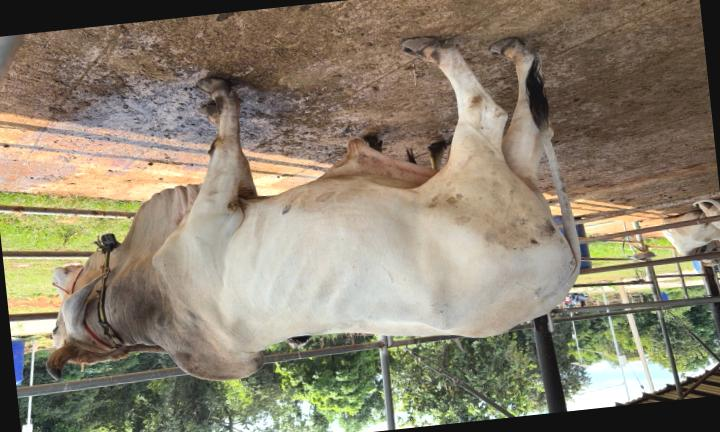Brahman: (47, 37, 579, 380)
